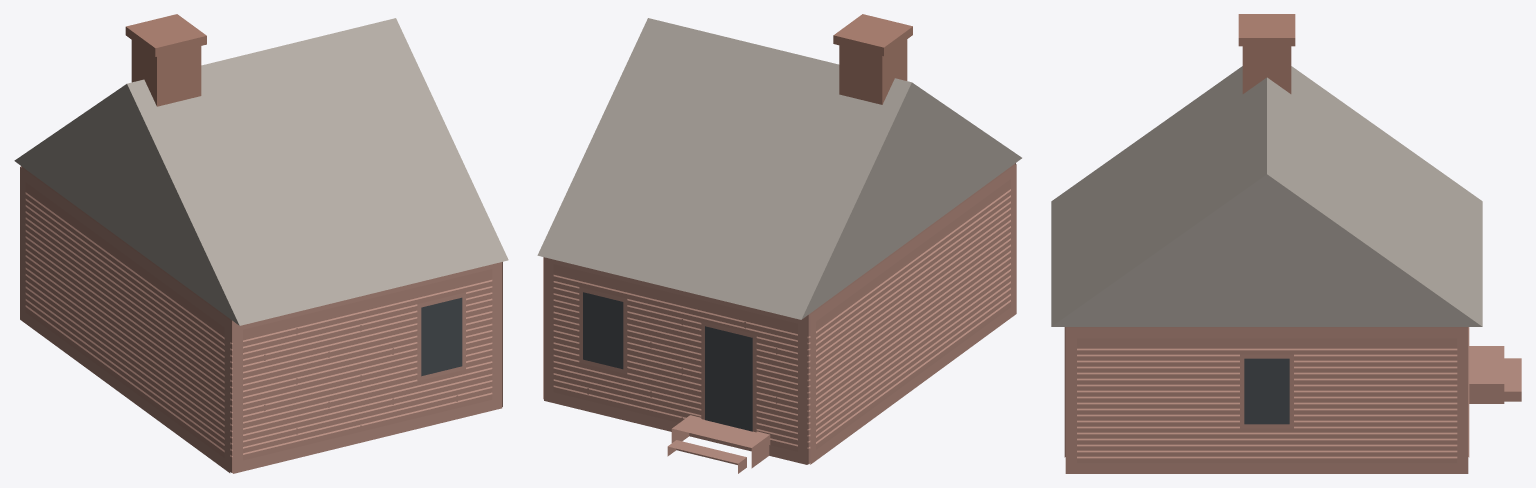
File: recon_1835_south_d3_027__inferred_1835.glb
3 views of the same model, side by side, from view 1: azimuth 30°, elevation 25°; view 2: azimuth 150°, elevation 25°; view 3: azimuth 270°, elevation 25° (orthographic). The views are drawn at different scales.
Parts seen in each view (by area): view 1: recon_1835_south_d3_027__inferred_1835; view 2: recon_1835_south_d3_027__inferred_1835; view 3: recon_1835_south_d3_027__inferred_1835.
Boxes of the visible parts, x1,y1,x2,y2 form: recon_1835_south_d3_027__inferred_1835: [14, 14, 508, 473]; recon_1835_south_d3_027__inferred_1835: [537, 14, 1021, 473]; recon_1835_south_d3_027__inferred_1835: [1051, 14, 1521, 473].
Size of the model in its own units: 5.2 by 6.46 by 8.11.
